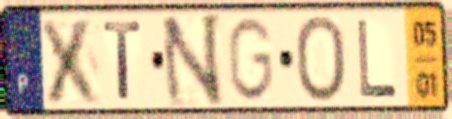G: (224, 15, 275, 105)
L: (355, 17, 401, 100)
N: (158, 10, 225, 110)
O: (292, 12, 348, 105)
T: (100, 18, 145, 103)
X: (37, 14, 106, 106)
